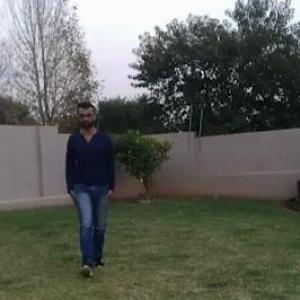follow: (63, 101, 119, 273)
